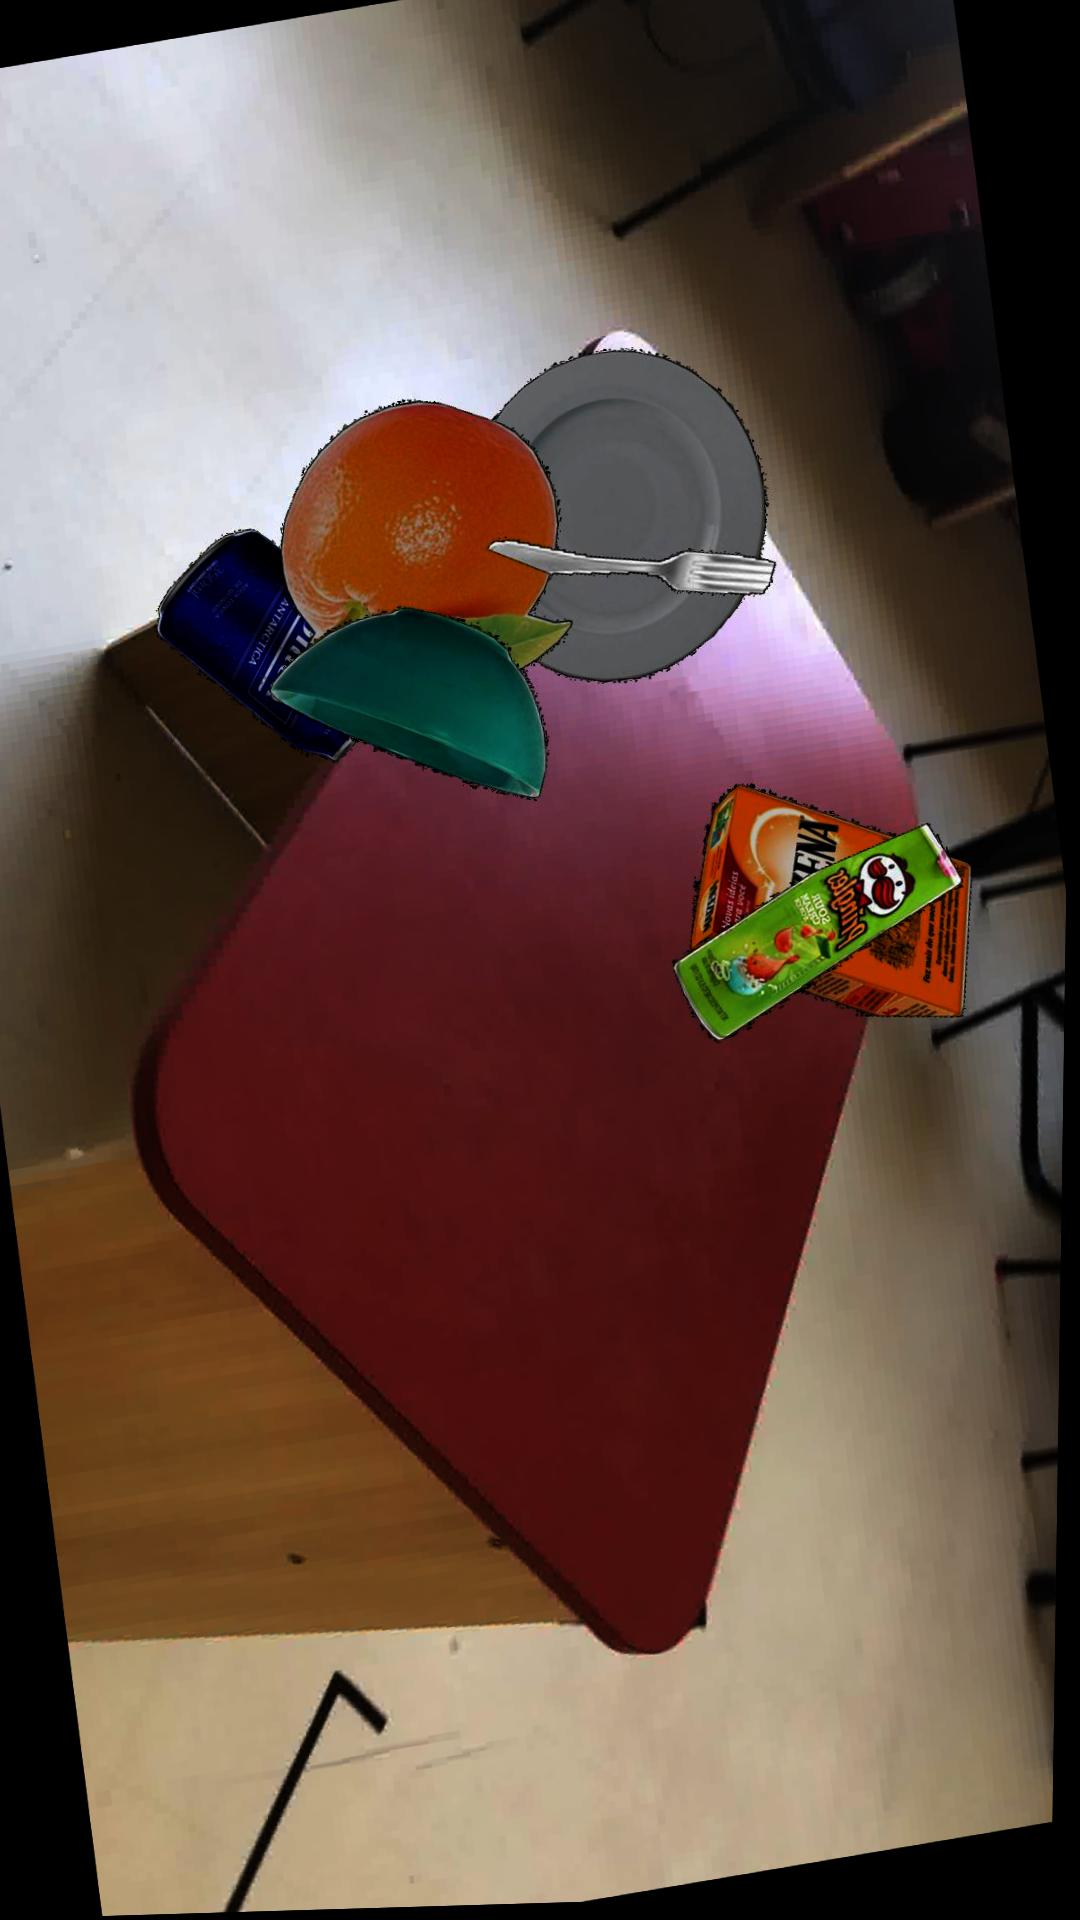bowl: (269, 611, 549, 803)
fork: (487, 543, 775, 601)
orange: (280, 404, 572, 674)
plate: (491, 355, 767, 687)
pringles: (674, 829, 964, 1046)
tonic: (156, 531, 356, 765)
